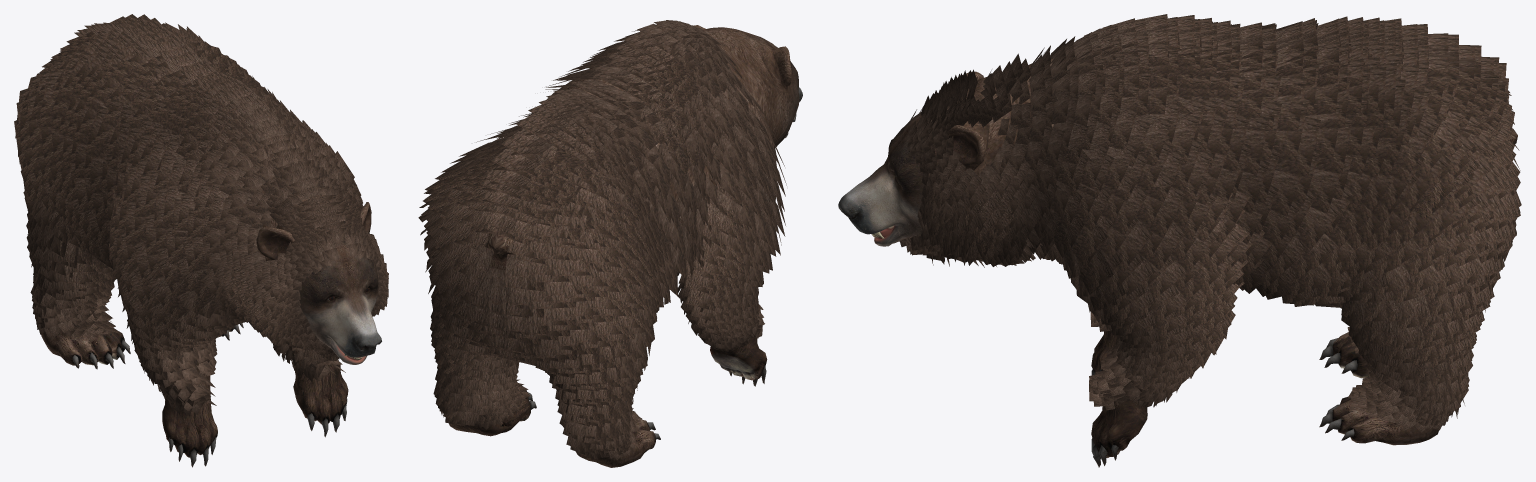
Rendered from bear.glb.
3 renders of one model, left to right at view 1: azimuth 30°, elevation 25°; view 2: azimuth 150°, elevation 25°; view 3: azimuth 270°, elevation 25°, orthographic. The views are drawn at different scales.
Parts seen in each view (by area): view 1: bear; view 2: bear; view 3: bear.
Part boxes in pixels (x1=…): bear: x1=14, y1=14, x2=388, y2=467; bear: x1=418, y1=20, x2=802, y2=467; bear: x1=838, y1=14, x2=1521, y2=467.
Bounding box in the file's own units: 2.04 × 2.91 × 4.43.
3 materials, 3 textured.
